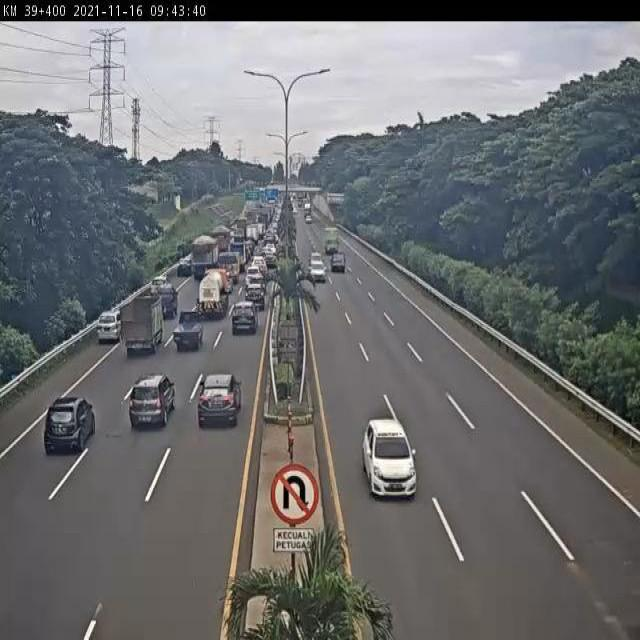car: (360, 413, 419, 503), (40, 392, 99, 457), (126, 370, 181, 434), (193, 368, 244, 435), (173, 308, 207, 353), (228, 300, 260, 339), (93, 309, 125, 348), (155, 287, 180, 320), (242, 281, 267, 312), (149, 273, 171, 299), (244, 263, 264, 285), (176, 256, 193, 279), (246, 275, 267, 293), (310, 259, 327, 280), (330, 252, 346, 273), (252, 253, 267, 272), (264, 251, 278, 268)
small truck: (215, 249, 242, 287)
truck-l-: (187, 233, 221, 284), (207, 225, 229, 258)
truck-m-: (115, 293, 168, 360), (197, 264, 234, 319)
